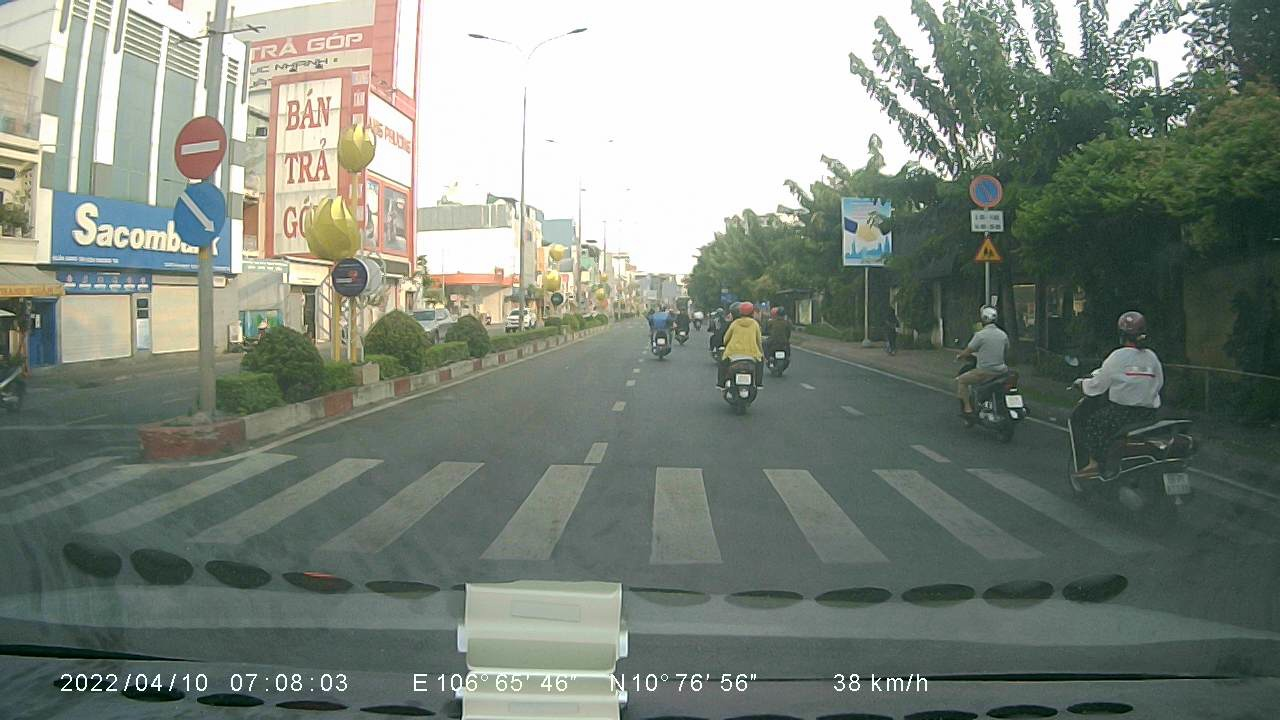Bien khac: (970, 235, 1003, 264)
Cam di nguoc chieu: (174, 115, 231, 181)
Cam do xe: (966, 174, 1006, 208)
Huong di phai re phai: (169, 183, 229, 250)
